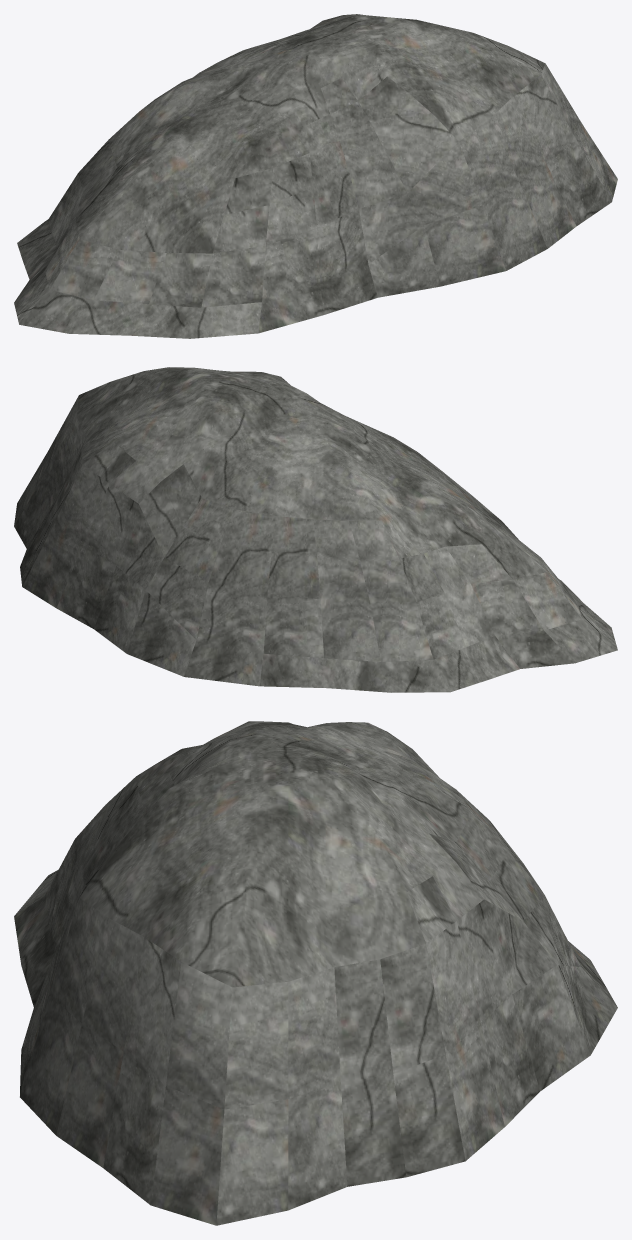
The model's file is nyc_rock_umpire.glb.
The picture shows the model from 3 angles, top to bottom: view 1: azimuth 30°, elevation 25°; view 2: azimuth 150°, elevation 25°; view 3: azimuth 270°, elevation 25°; orthographic projection. The views are drawn at different scales.
Parts seen in each view (by area): view 1: nyc_rock_umpire; view 2: nyc_rock_umpire; view 3: nyc_rock_umpire.
Part boxes in pixels (<box>): nyc_rock_umpire: <box>14,14,617,338</box>; nyc_rock_umpire: <box>14,367,617,692</box>; nyc_rock_umpire: <box>14,721,617,1225</box>.
Bounding box in the file's own units: 19.28 × 6.02 × 11.38.
Materials: 1 (1 with a texture image).
